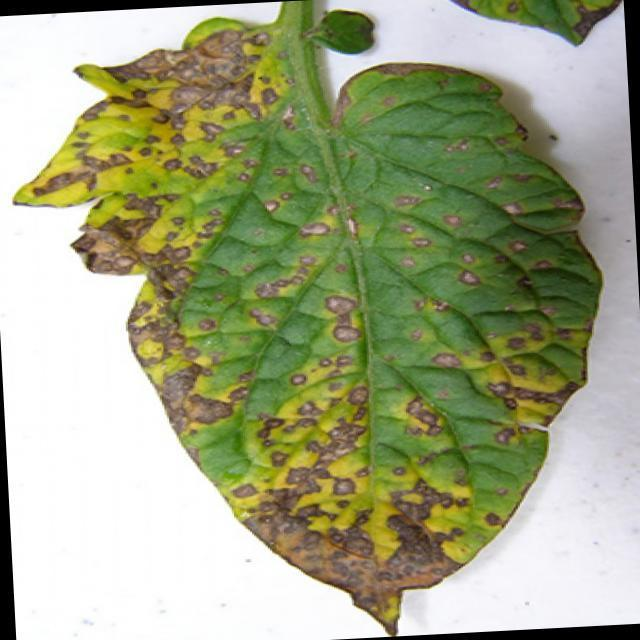Septoria: (100, 46, 584, 574)
